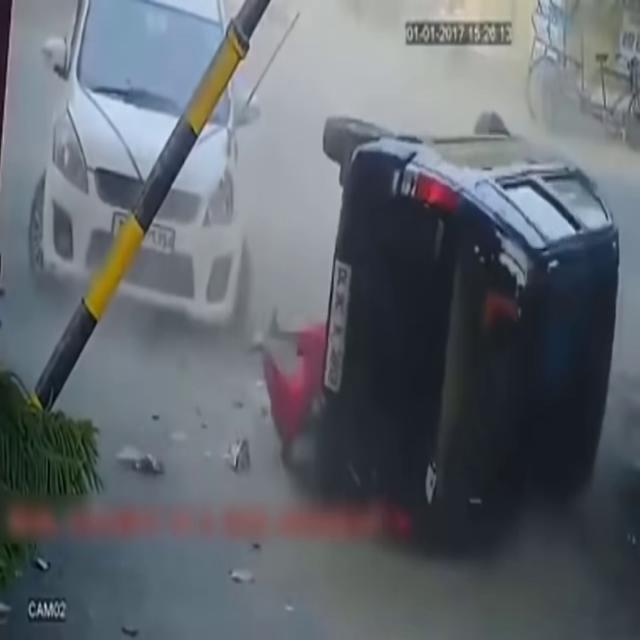accident: (287, 94, 611, 576)
